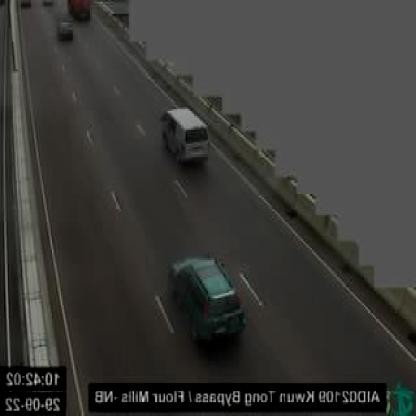Car: (165, 250, 245, 354), (158, 104, 216, 165), (53, 7, 77, 43)
